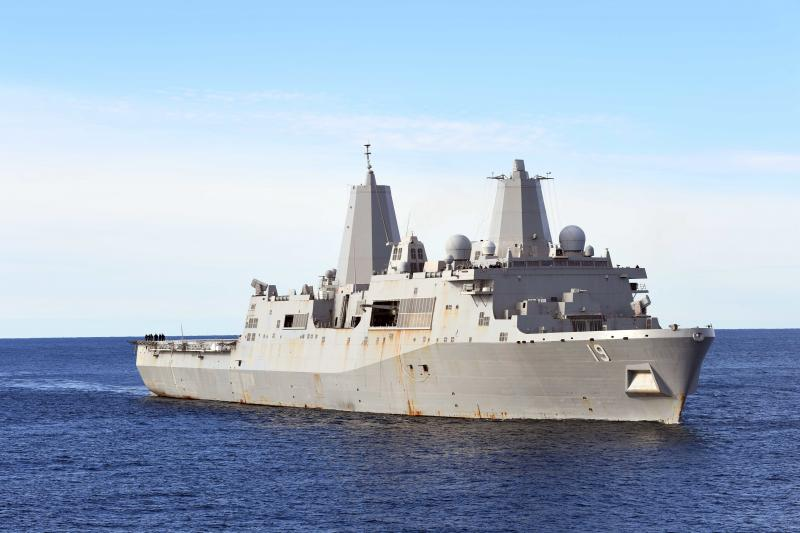rust: (368, 331, 427, 358), (470, 401, 509, 420), (402, 394, 423, 415), (309, 374, 327, 391), (235, 388, 252, 405)
